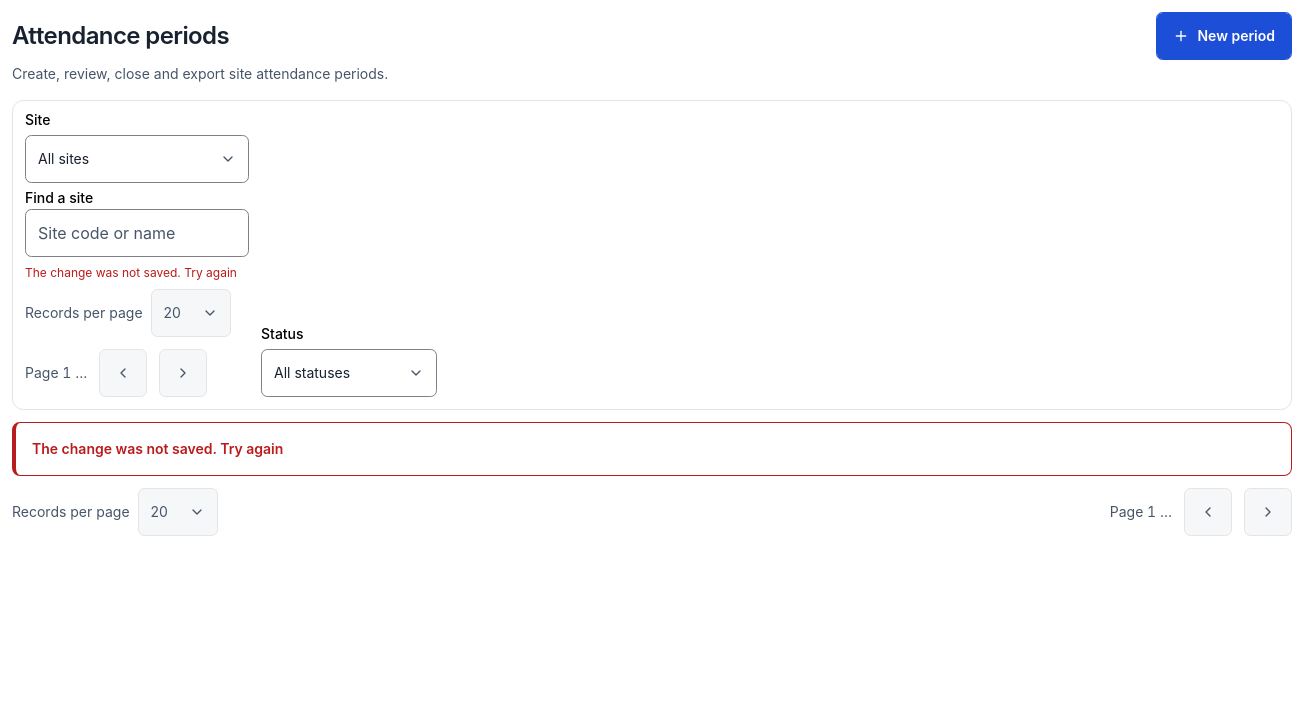
Scenario: leaves Cancel as the explicit way to abandon a changed range, without a prompt
Click the button with test id "hr-period-new": (1224, 36) top-left (1156, 12), bottom-right (1292, 60)
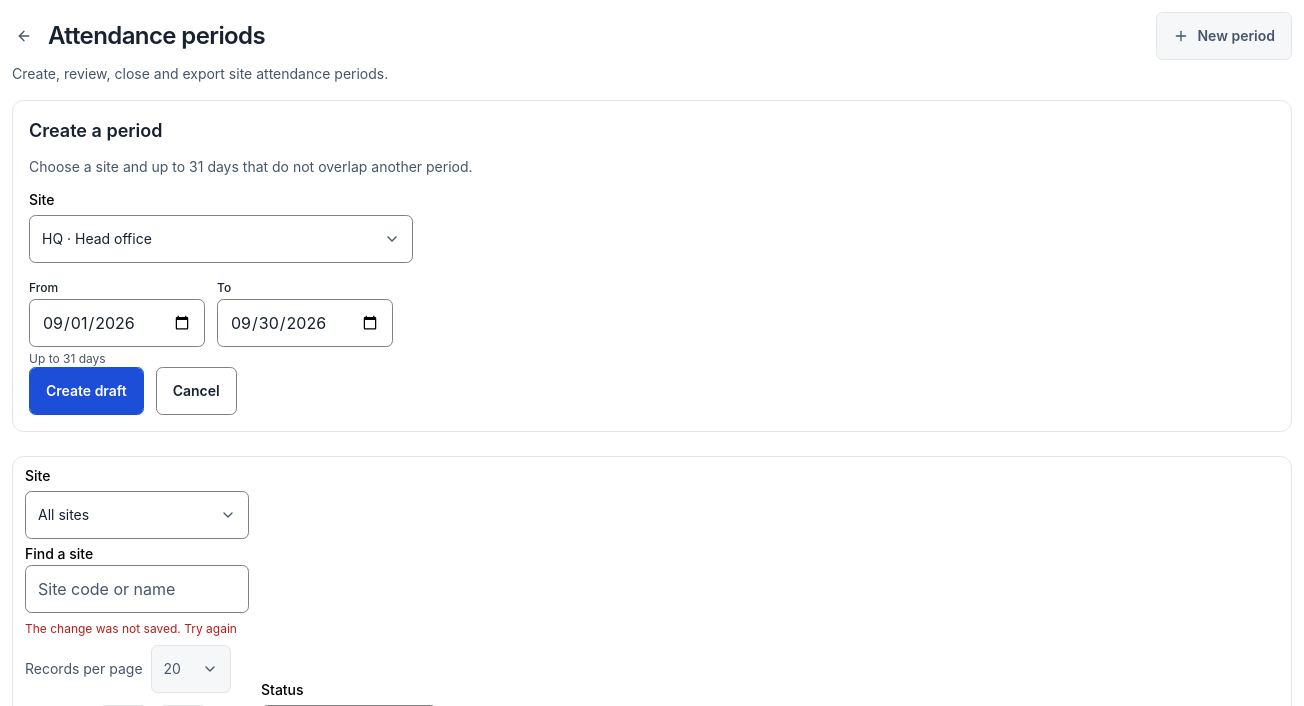
In the date field labelled "From": (117, 323) top-left (29, 299), bottom-right (205, 347), type "2026-02-02"
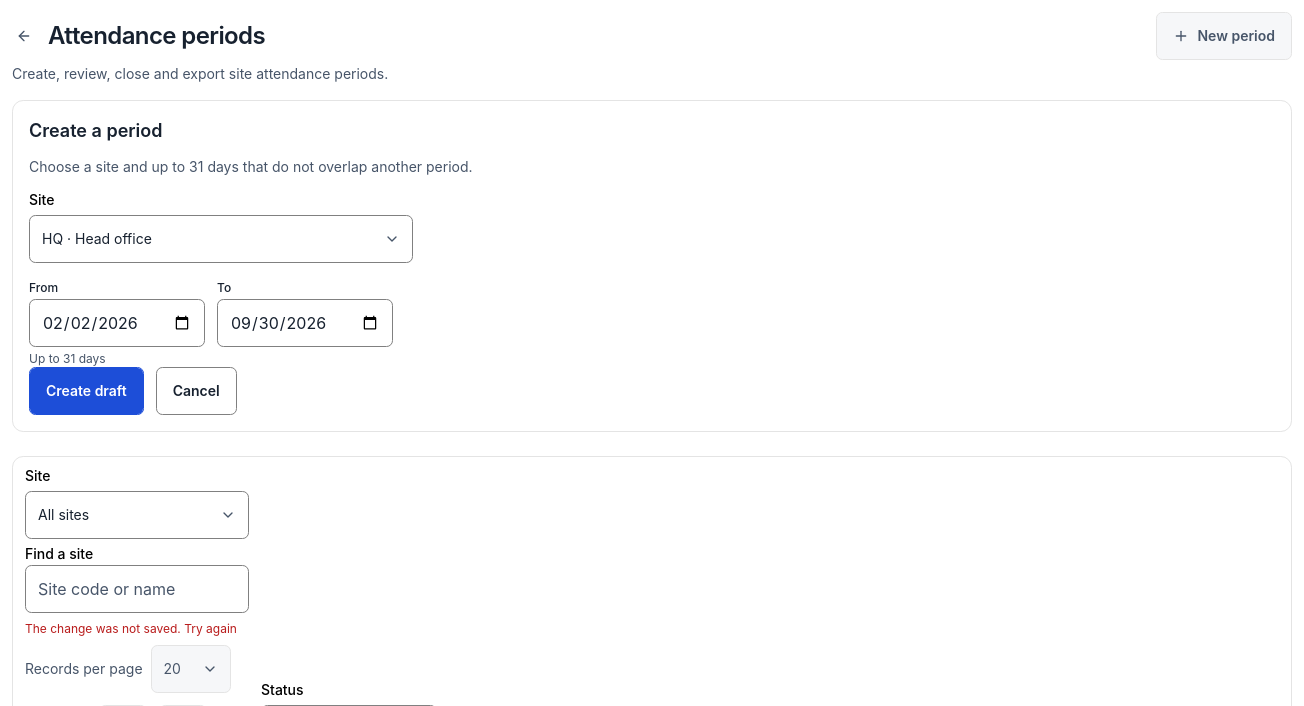
Click the button "Cancel": (196, 391) top-left (156, 367), bottom-right (237, 415)
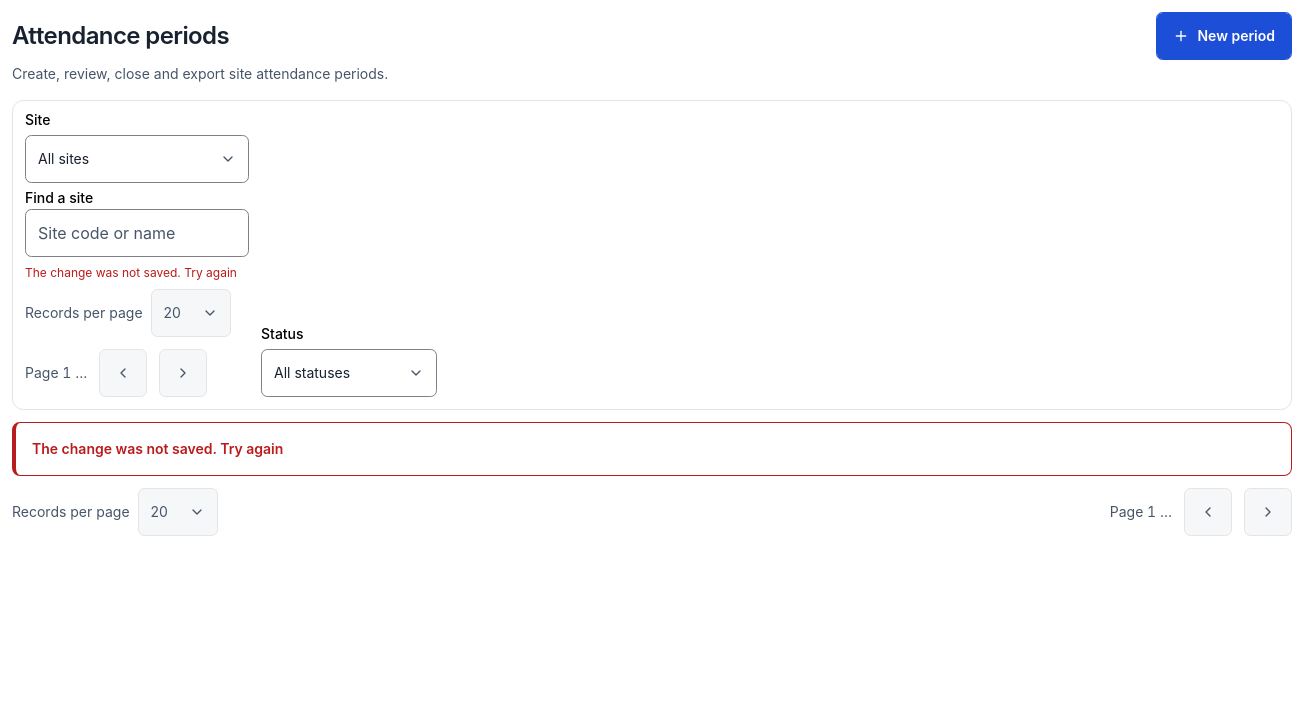
Expected: the button with test id "hr-period-create" is gone
